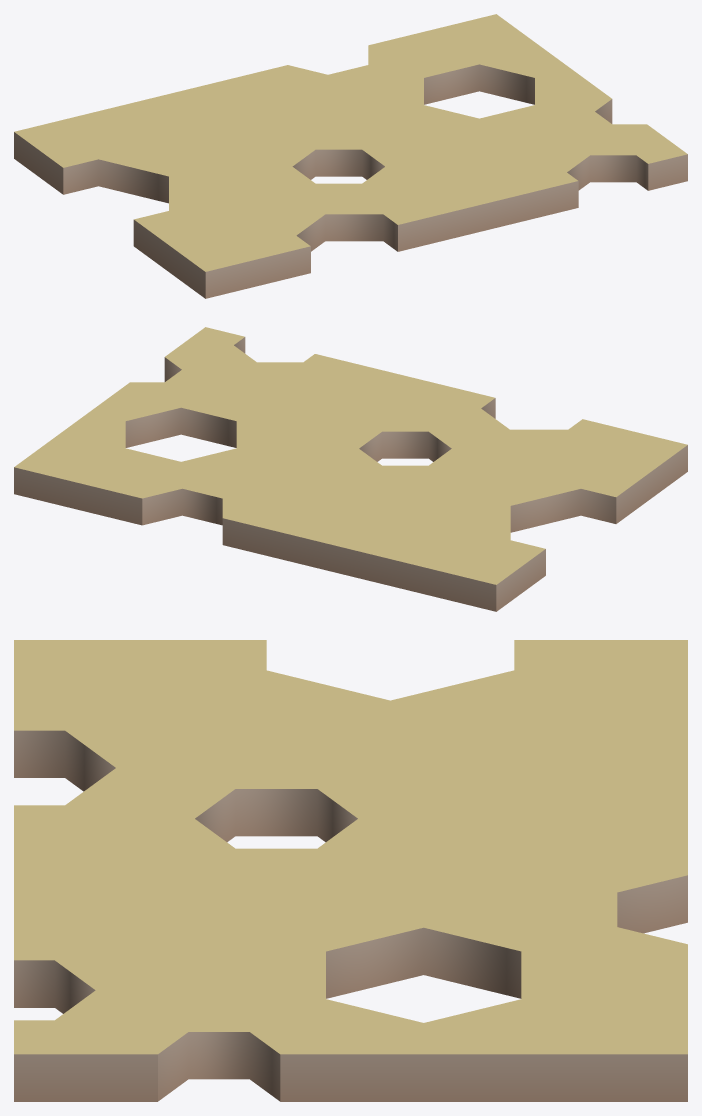
Rendered from cheese-cut.glb.
3 renders of one model, top to bottom at view 1: azimuth 30°, elevation 25°; view 2: azimuth 150°, elevation 25°; view 3: azimuth 270°, elevation 25°, orthographic. The views are drawn at different scales.
Parts seen in each view (by area): view 1: cheese-cut; view 2: cheese-cut; view 3: cheese-cut.
Part boxes in pixels (left/top/right/bottom): cheese-cut: left=14, top=14, right=687, bottom=298; cheese-cut: left=14, top=327, right=687, bottom=611; cheese-cut: left=14, top=640, right=687, bottom=1101.
Bounding box in the file's own units: 0.384 × 0.0205 × 0.264.
